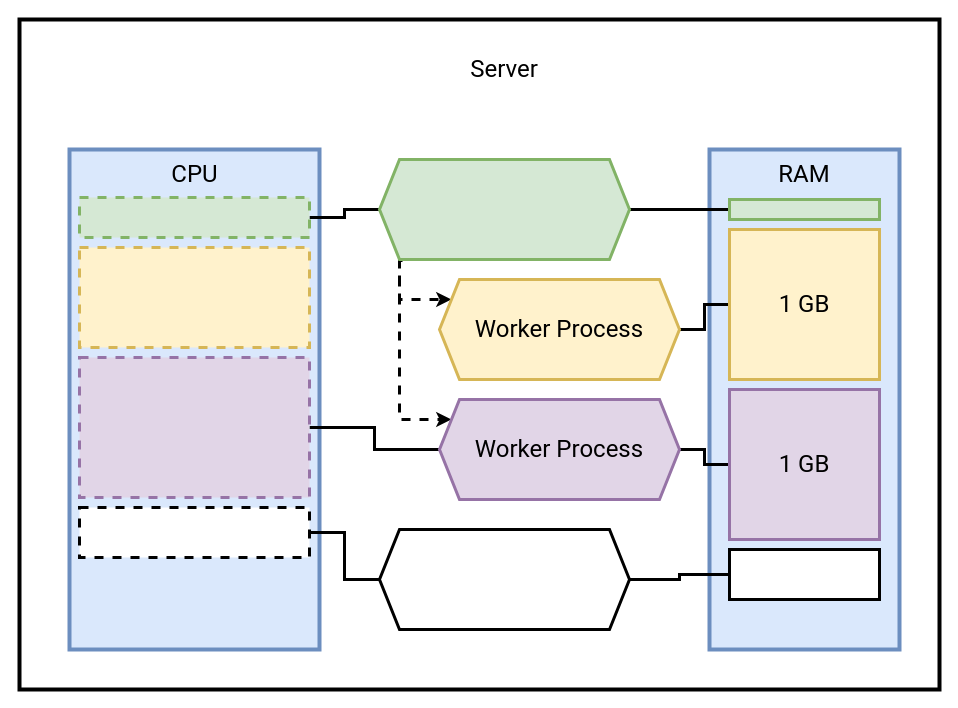
This 958x708 diagram has some shape labels left out. The shapes that lost their labels are listed below. From the top down, each one's centre as x and y in pixels, then its label:
the point at 504,209: Process Manager
the point at 504,579: Another Process
